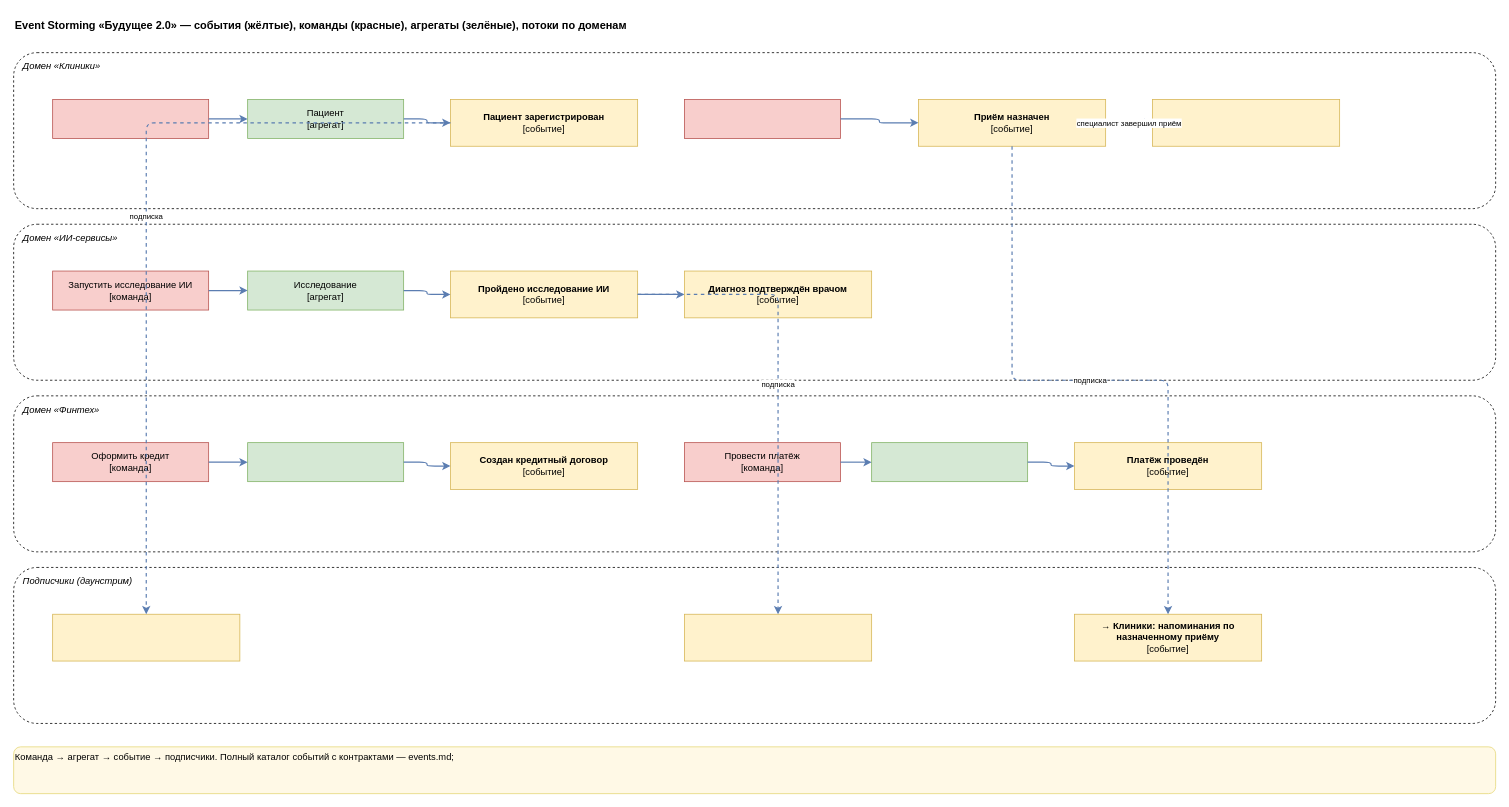
Some shapes in this 1509 by 807 pixel diagram are drawn without their labels. The shapes that lost their labels are listed below. From the top down, each one's centre as x and y in pixels, then its label:
pixel 130 118: Зарегистрировать пациента [команда]
pixel 762 118: Записать на приём [команда]
pixel 1246 122: Приём завершён [событие]
pixel 325 462: Кредитная заявка [агрегат]
pixel 949 462: Платёж [агрегат]
pixel 146 637: → Витрина: обновить метрики (потоковая витрина) [событие]
pixel 778 637: → Финтех: скоринг по событию приёма/исследования (по согласованию) [событие]
